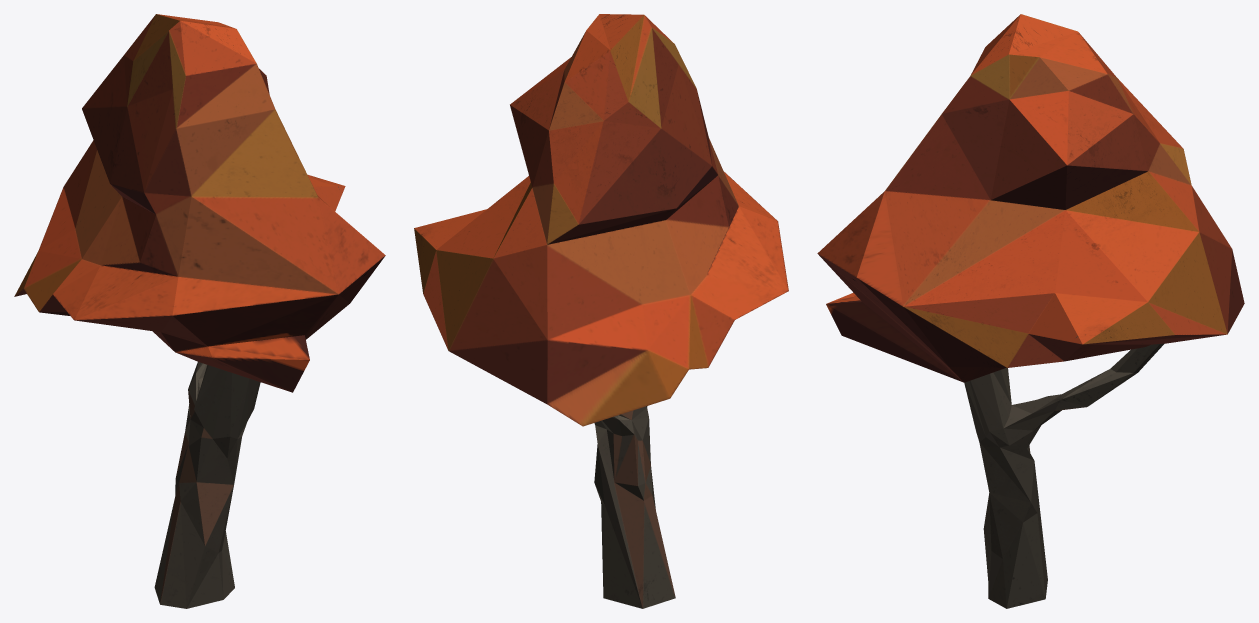
Rendered from Tree_2.obj.
3 renders of one model, left to right at view 1: azimuth 30°, elevation 25°; view 2: azimuth 150°, elevation 25°; view 3: azimuth 270°, elevation 25°, orthographic.
Parts seen in each view (by area): view 1: Object.1; view 2: Object.1; view 3: Object.1.
Part boxes in pixels (box(x1,y1,x2,y2)): Object.1: box(14, 14, 385, 608); Object.1: box(414, 14, 788, 608); Object.1: box(817, 14, 1244, 608).
Size of the model in its own units: 143 by 244 by 165.
1 material, 1 textured.
